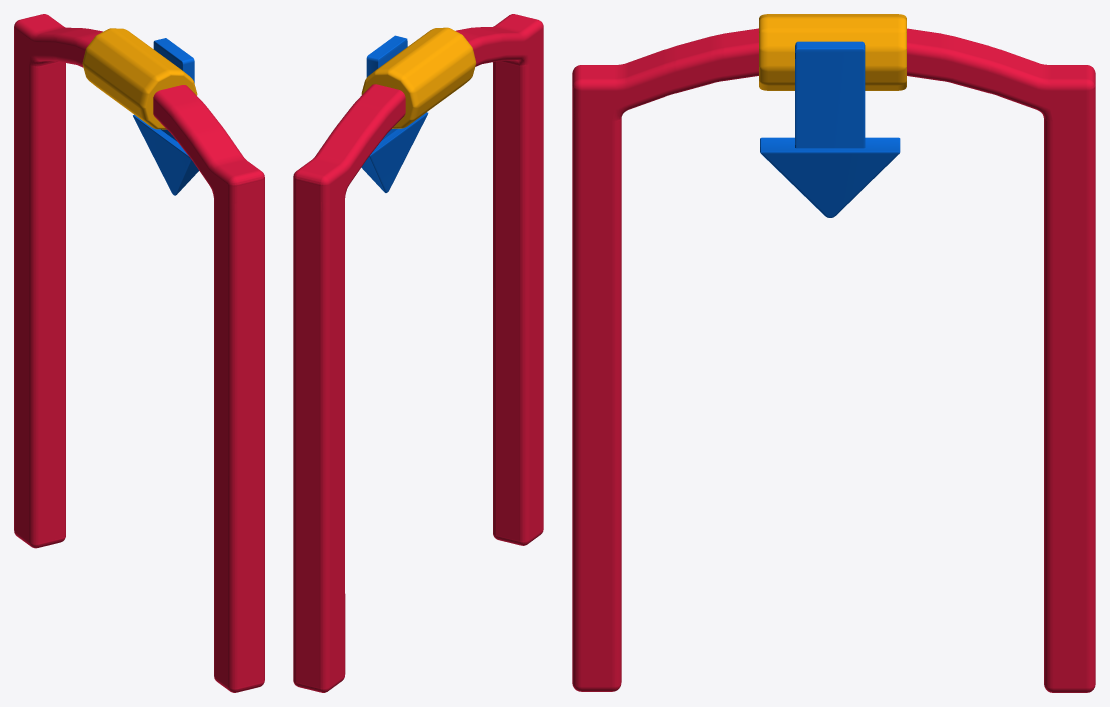
File: Gate.fbx
3 renders of one model, left to right at view 1: azimuth 30°, elevation 25°; view 2: azimuth 150°, elevation 25°; view 3: azimuth 270°, elevation 25°, orthographic. The views are drawn at different scales.
Parts seen in each view (by area): view 1: Cylinder, Cube.040; view 2: Cylinder, Cube.040; view 3: Cylinder, Cube.040.
Part boxes in pixels (box(x1,y1,x2,y2)): Cylinder: box(14, 14, 264, 692); Cube.040: box(133, 38, 198, 195); Cylinder: box(293, 14, 543, 692); Cube.040: box(361, 35, 428, 192); Cylinder: box(572, 14, 1095, 692); Cube.040: box(760, 41, 900, 217).
Size of the model in its own units: 51.79 by 380 by 270.
